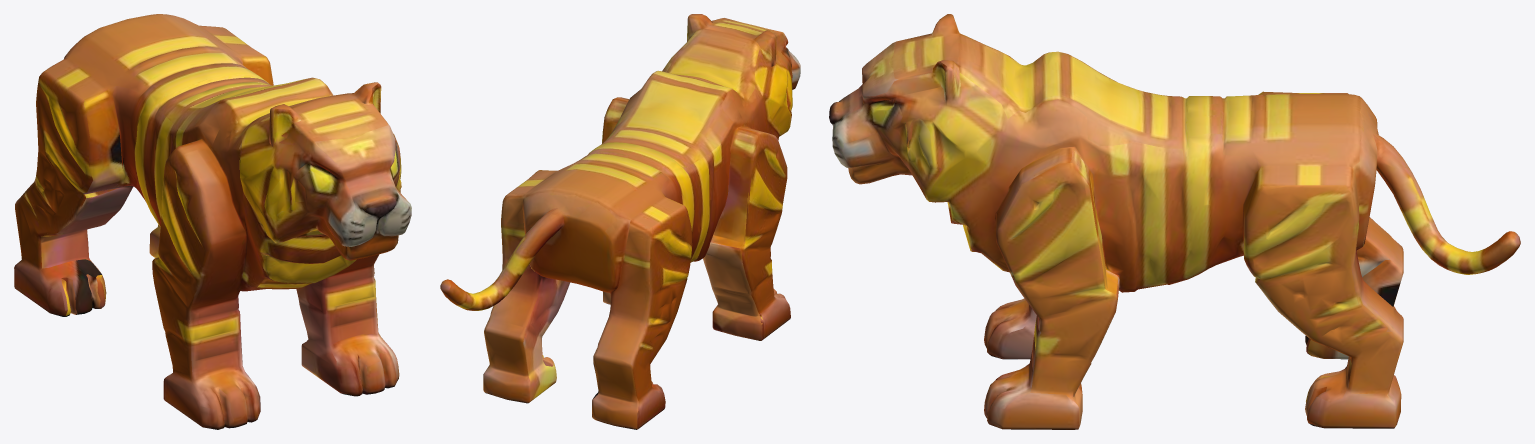
File: kaplan.glb
The picture shows the model from 3 angles, left to right: view 1: azimuth 30°, elevation 25°; view 2: azimuth 150°, elevation 25°; view 3: azimuth 270°, elevation 25°; orthographic projection. The views are drawn at different scales.
Visible parts, largest first — view 1: Tiger; view 2: Tiger; view 3: Tiger.
Boxes of the visible parts, <box> form: Tiger: <box>14,14,411,429</box>; Tiger: <box>440,14,800,429</box>; Tiger: <box>829,14,1520,429</box>.
Size of the model in its own units: 0.3797 by 0.6 by 1.09.
Materials: 1 (1 with a texture image).
